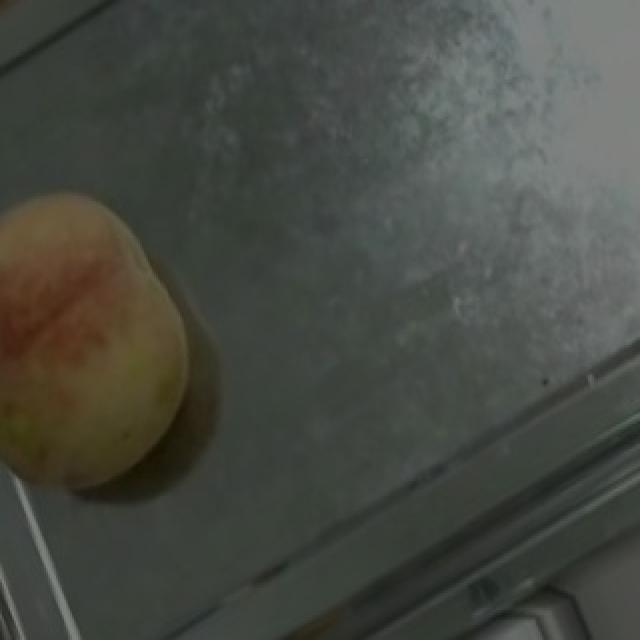Fruit: (0, 146, 234, 479), (420, 565, 638, 640)
